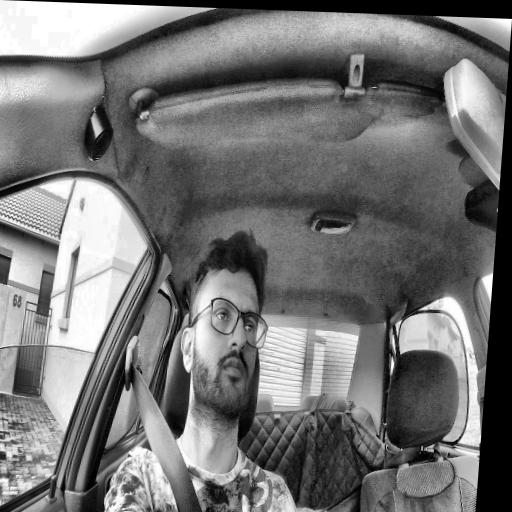awake: (175, 229, 276, 421)
